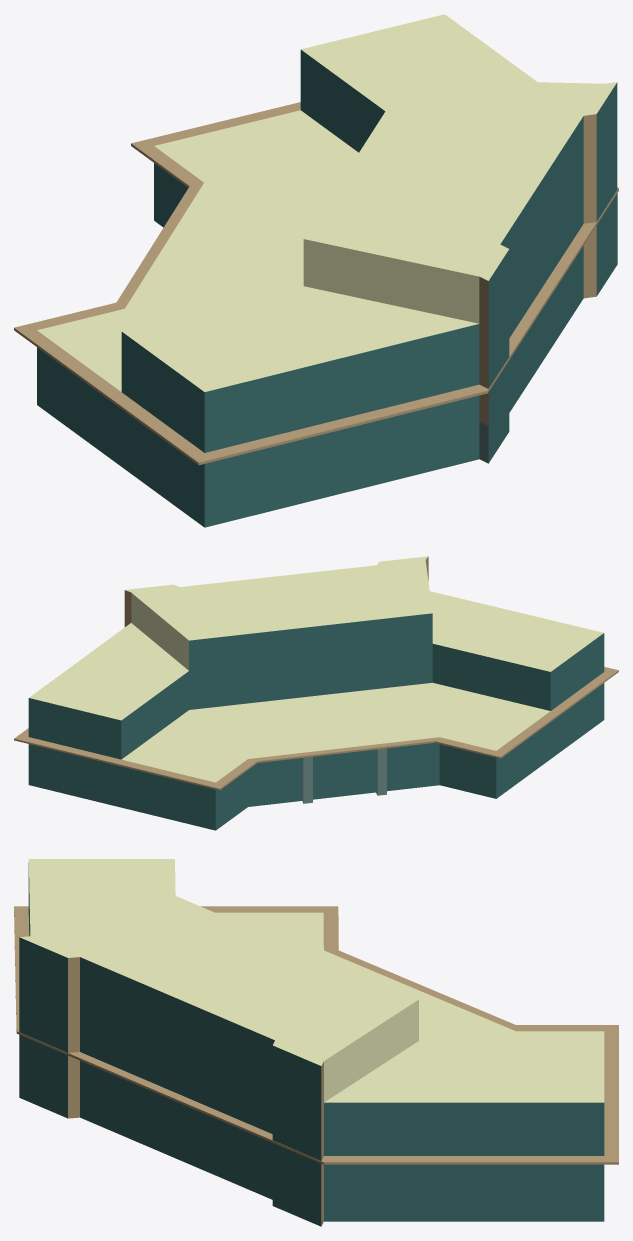
The model's file is EsquinaTejado 1.fbx.
3 views of the same model, one above another, from view 1: azimuth 30°, elevation 25°; view 2: azimuth 150°, elevation 25°; view 3: azimuth 270°, elevation 25° (orthographic). The views are drawn at different scales.
Parts seen in each view (by area): view 1: Cube.046; view 2: Cube.046; view 3: Cube.046.
Boxes of the visible parts, bbox=[...] form: Cube.046: bbox=[14, 14, 618, 527]; Cube.046: bbox=[14, 556, 618, 830]; Cube.046: bbox=[14, 859, 618, 1226].
Bounding box in the file's own units: 410 × 120 × 410.
